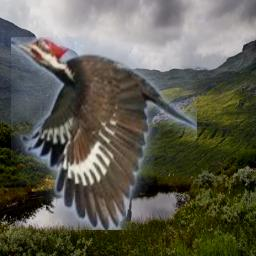Woodpecker: (11, 37, 197, 230)
